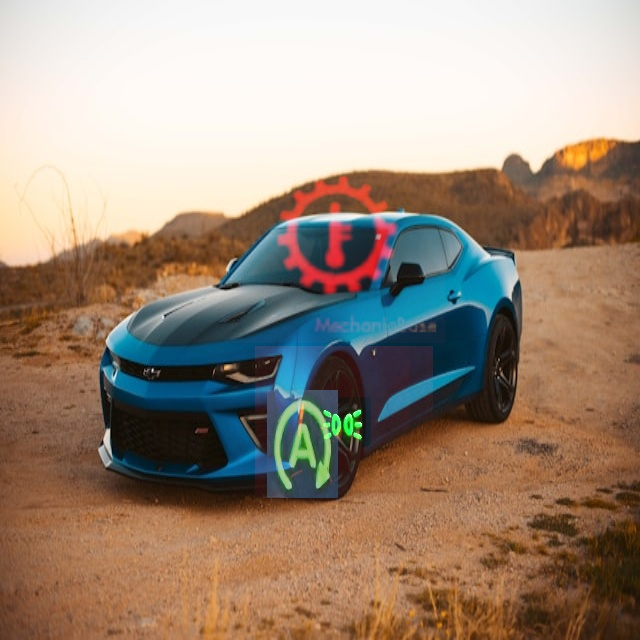symbol: (231, 129, 445, 343), (208, 350, 391, 533), (255, 346, 433, 524)
